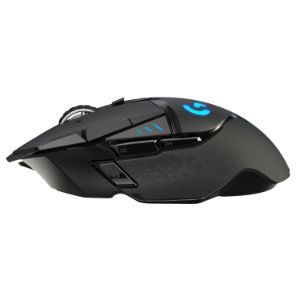mouse: (4, 95, 292, 205)
